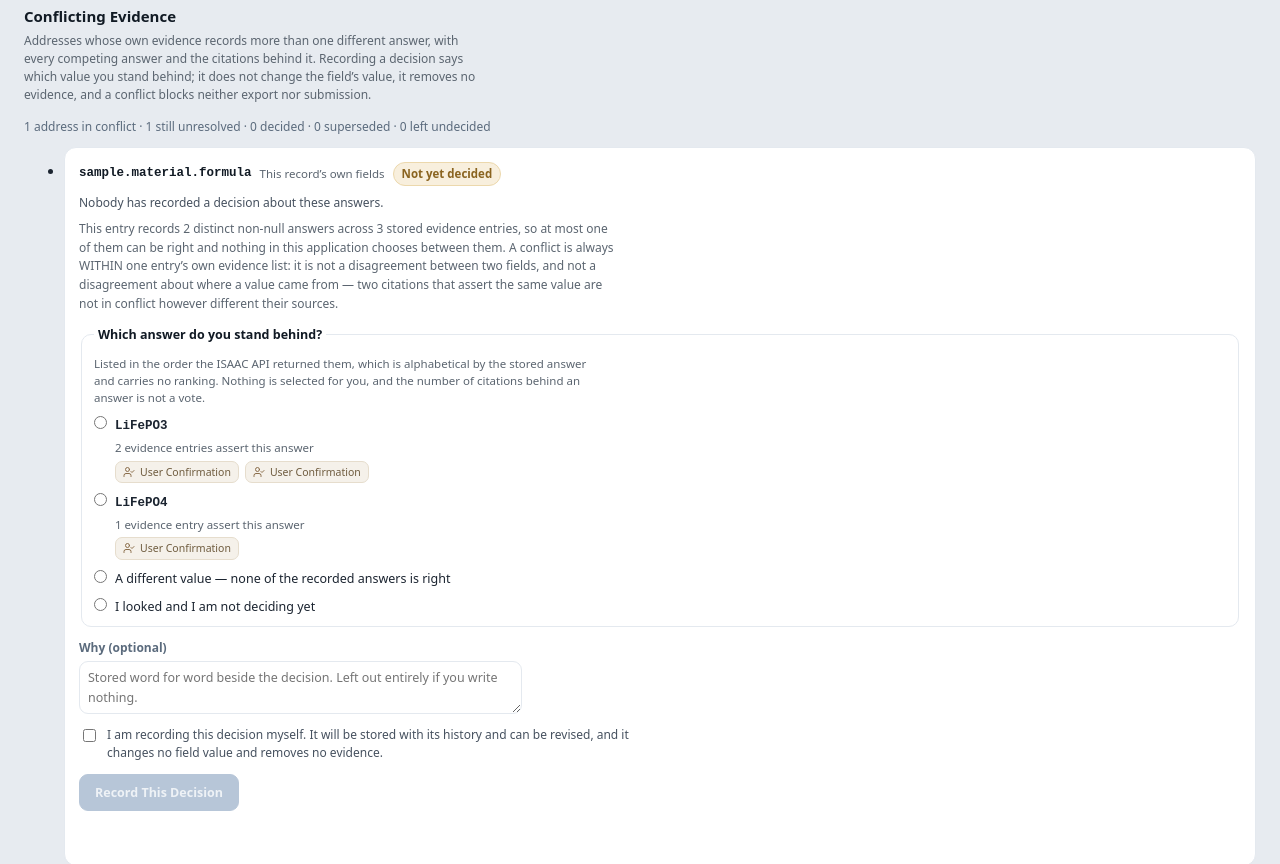
Test: a typed refusal › keeps the selection, the typed value and the reason after a refusal
This screenshot has width=1280, height=864.
Click the radio button labelled "A different value — none of the recorded answers is right" at [100, 576], box [94,570,107,583]
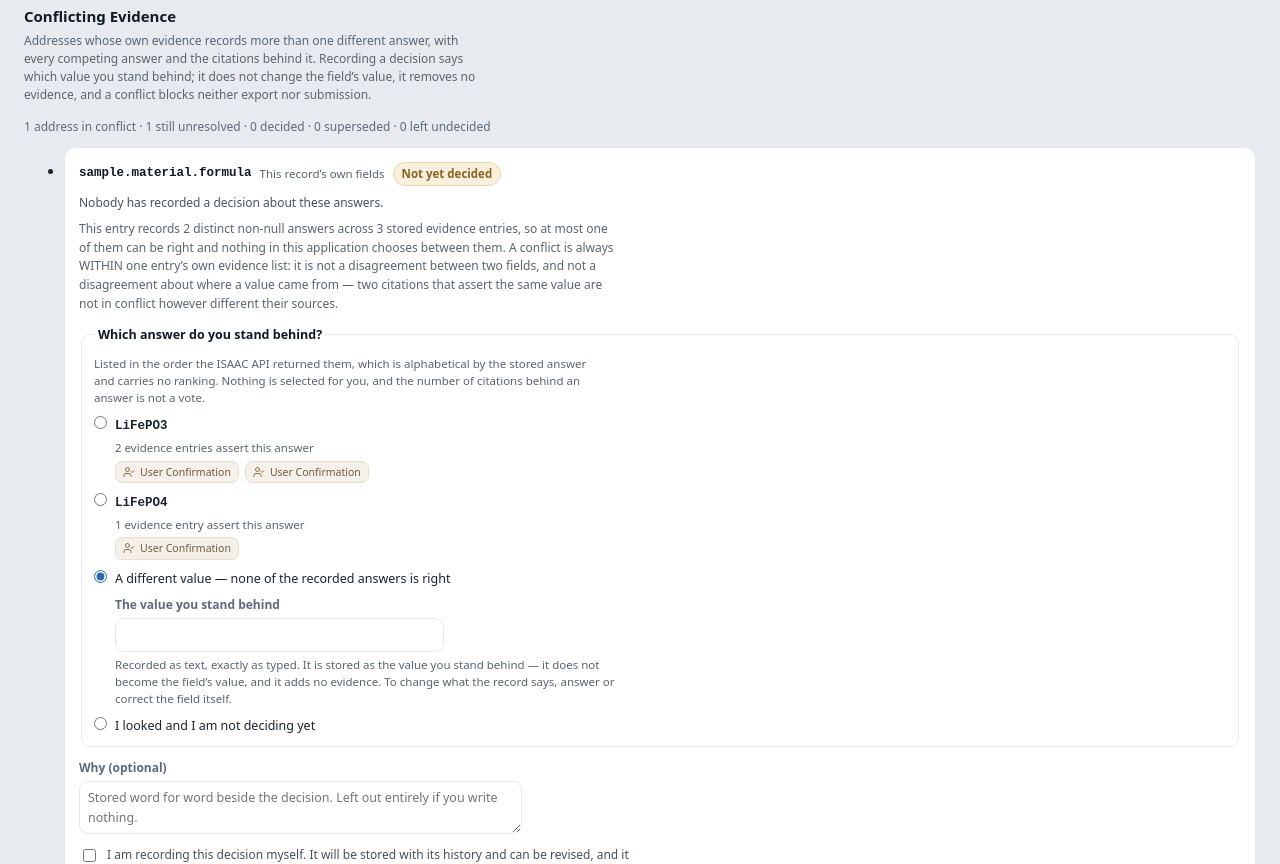
Type "Li2FePO4" into the field labelled "The value you stand behind" at [279, 635], box [115,618,444,652]
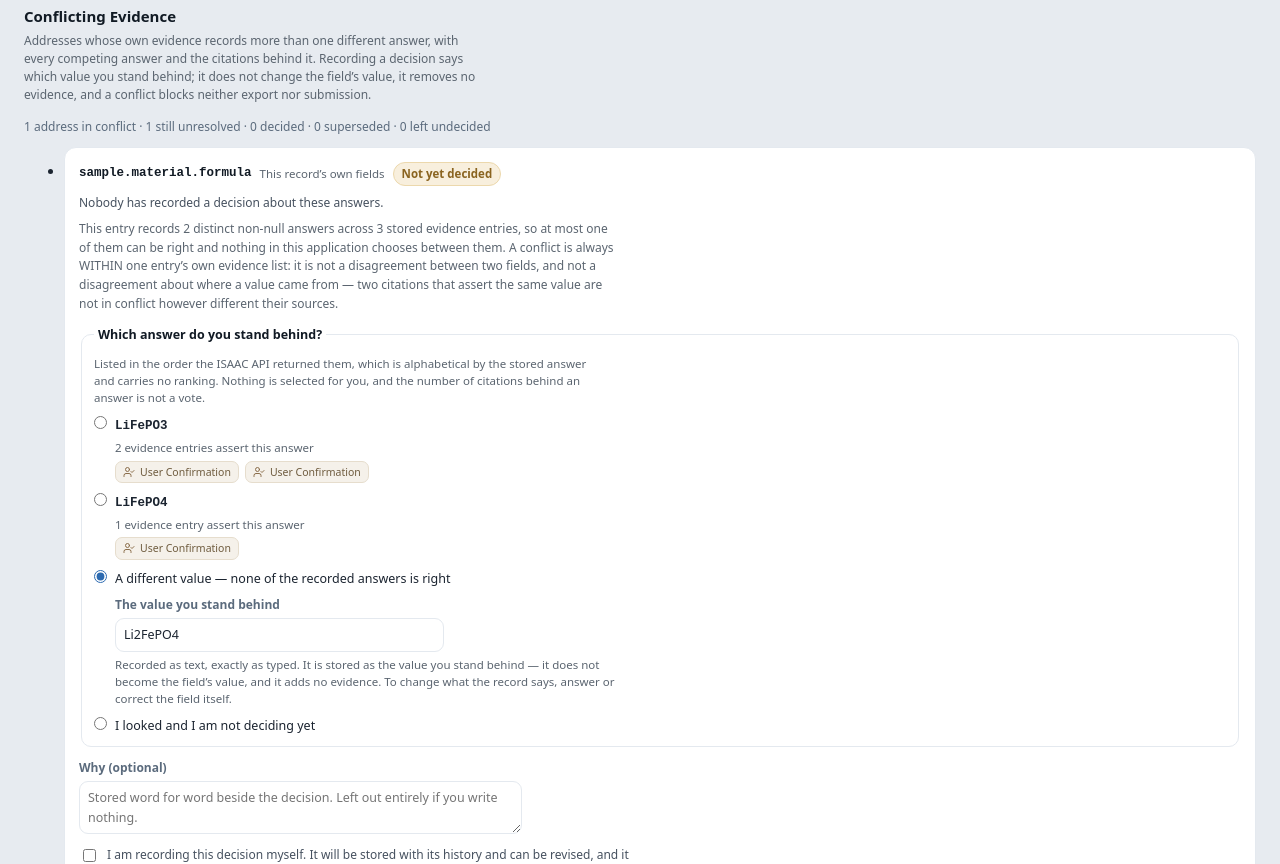
Replace the text in the text box labelled "Why (optional)" with "the spreadsheet column was mislabelled" at [301, 808], box [79,781,522,834]
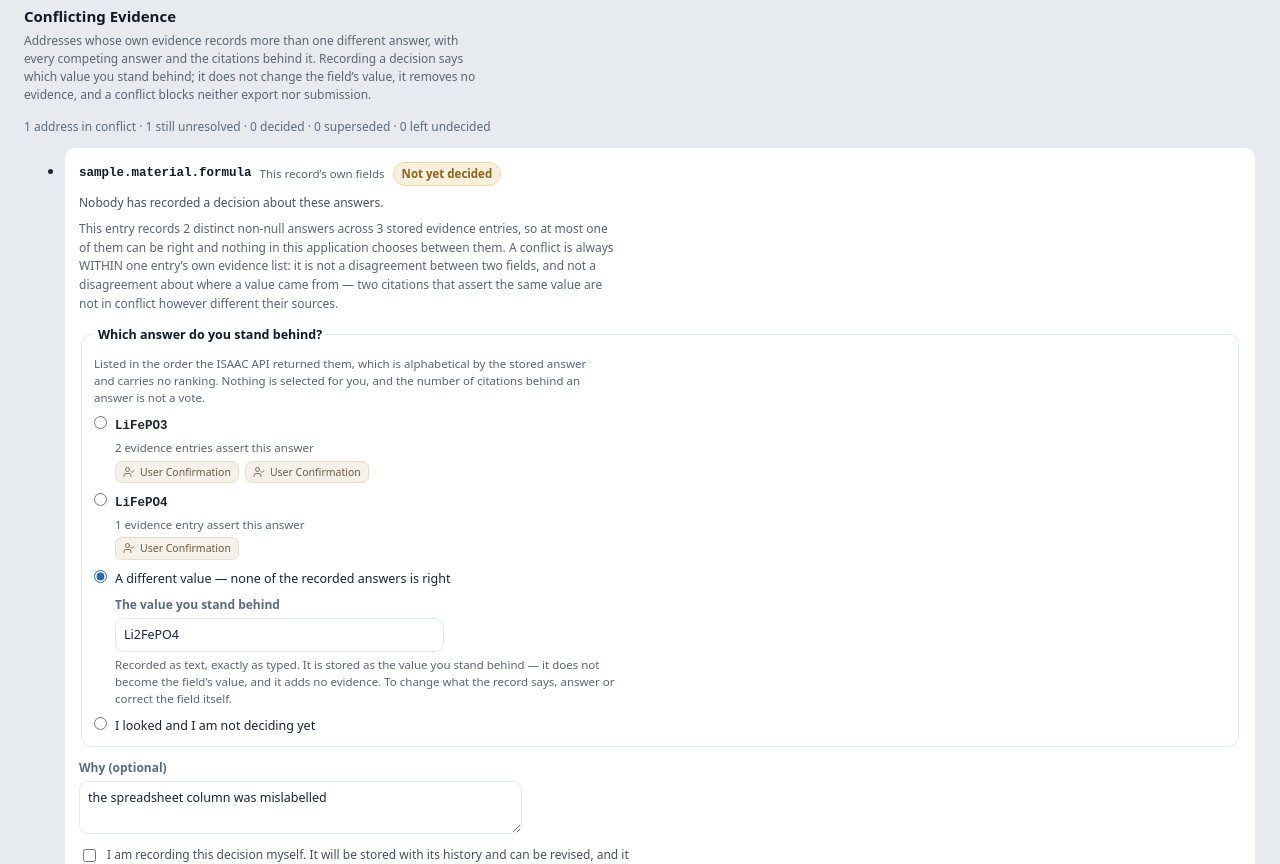
Click the checkbox labelled "I am recording this decision myself" at [90, 855], box [83,849,96,862]
(page scrolled)
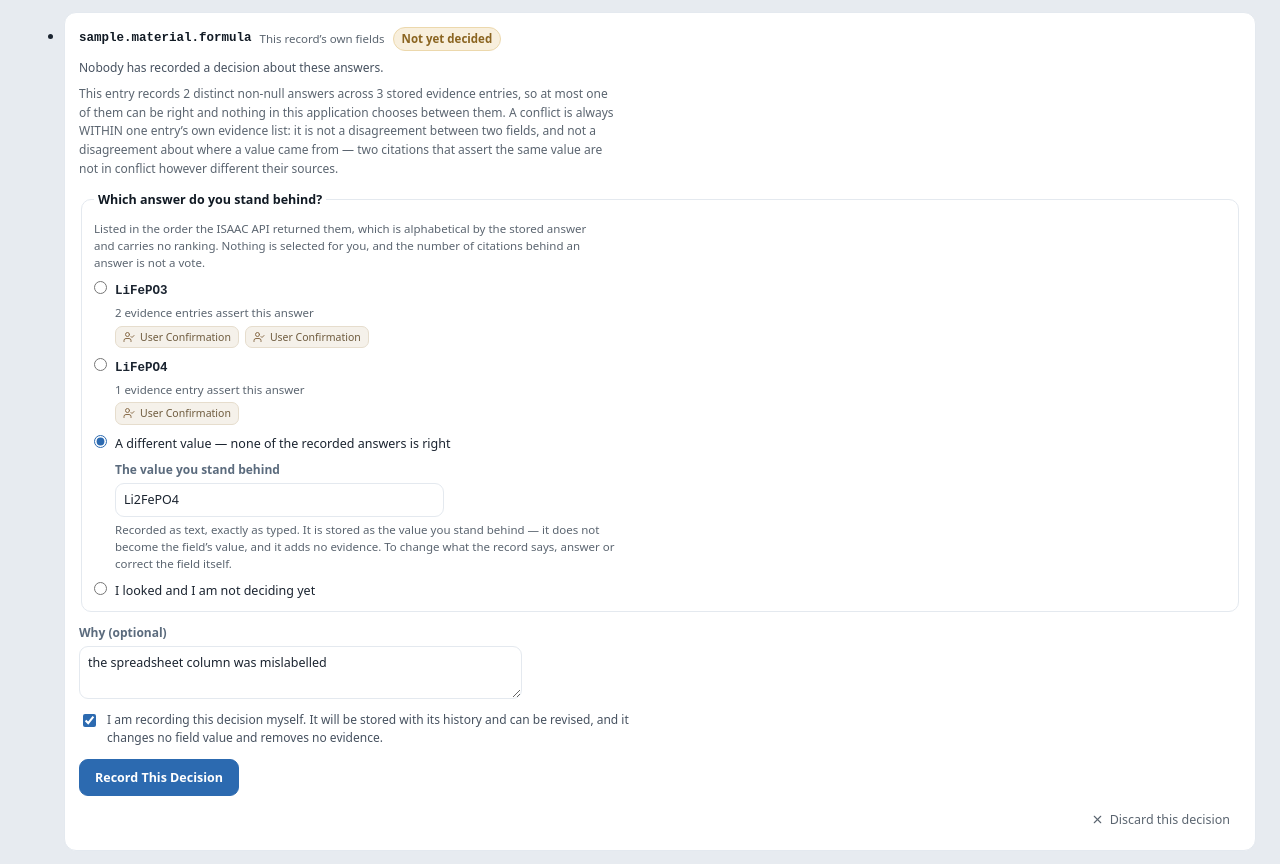
Click the button "Record This Decision" at [159, 777], box [79,759,239,796]
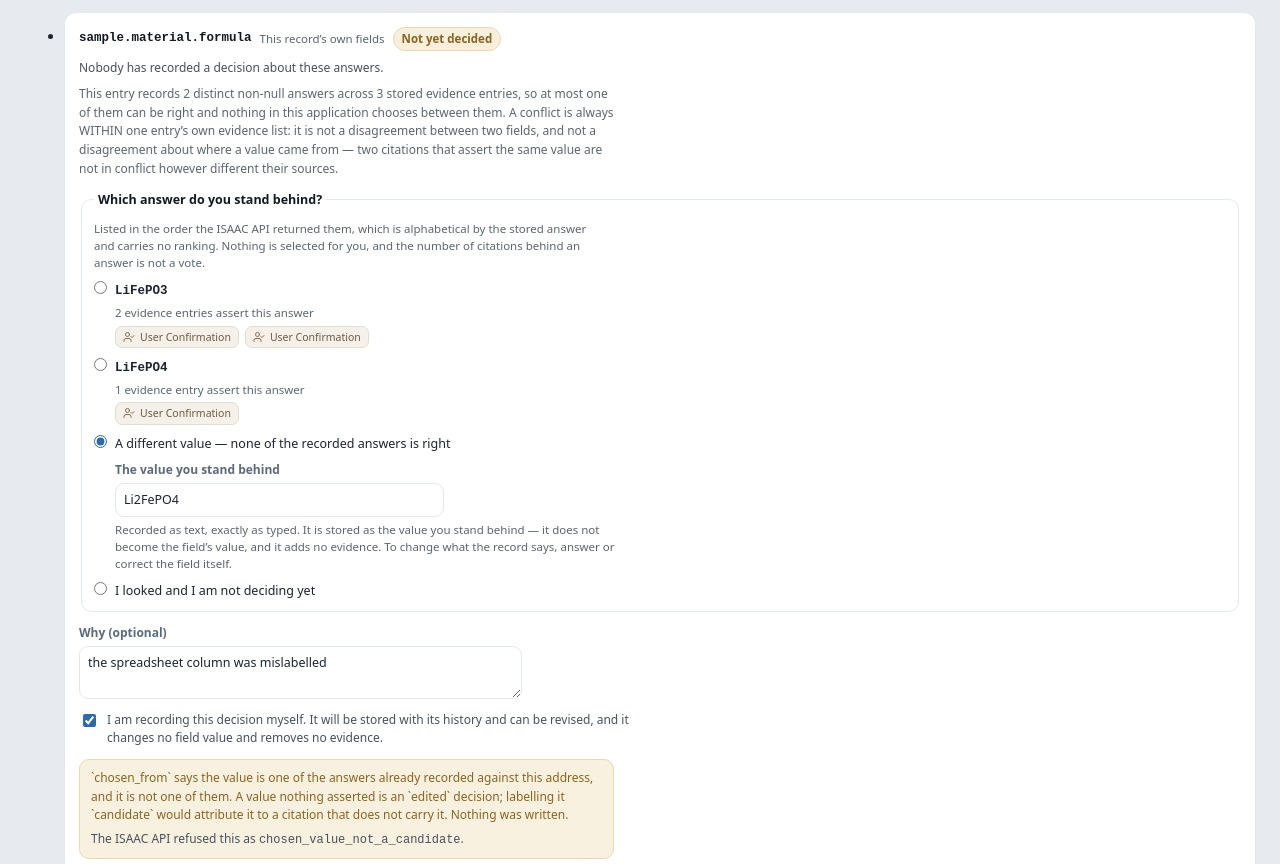
Result: the radio button labelled "A different value — none of the recorded answers is right" is checked at [94,435,107,448]
Result: the message is shown at [79,759,614,859]
